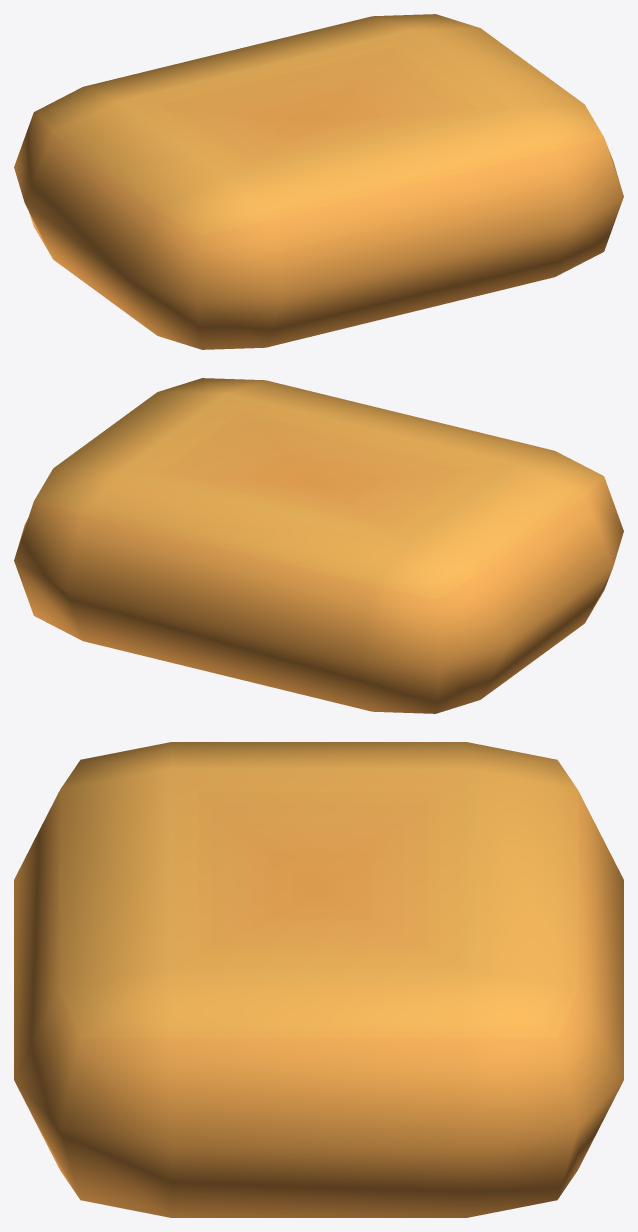
File: pillow.glb
3 views of the same model, one above another, from view 1: azimuth 30°, elevation 25°; view 2: azimuth 150°, elevation 25°; view 3: azimuth 270°, elevation 25° (orthographic). The views are drawn at different scales.
Visible parts, largest first — view 1: pillow_A; view 2: pillow_A; view 3: pillow_A.
Boxes of the visible parts, box(x1,y1,x2,y2) form: pillow_A: box(14, 14, 623, 349); pillow_A: box(14, 378, 623, 713); pillow_A: box(14, 742, 623, 1217).
Size of the model in its own units: 0.5 by 0.1538 by 0.3846.
Materials: 1 (1 with a texture image).
